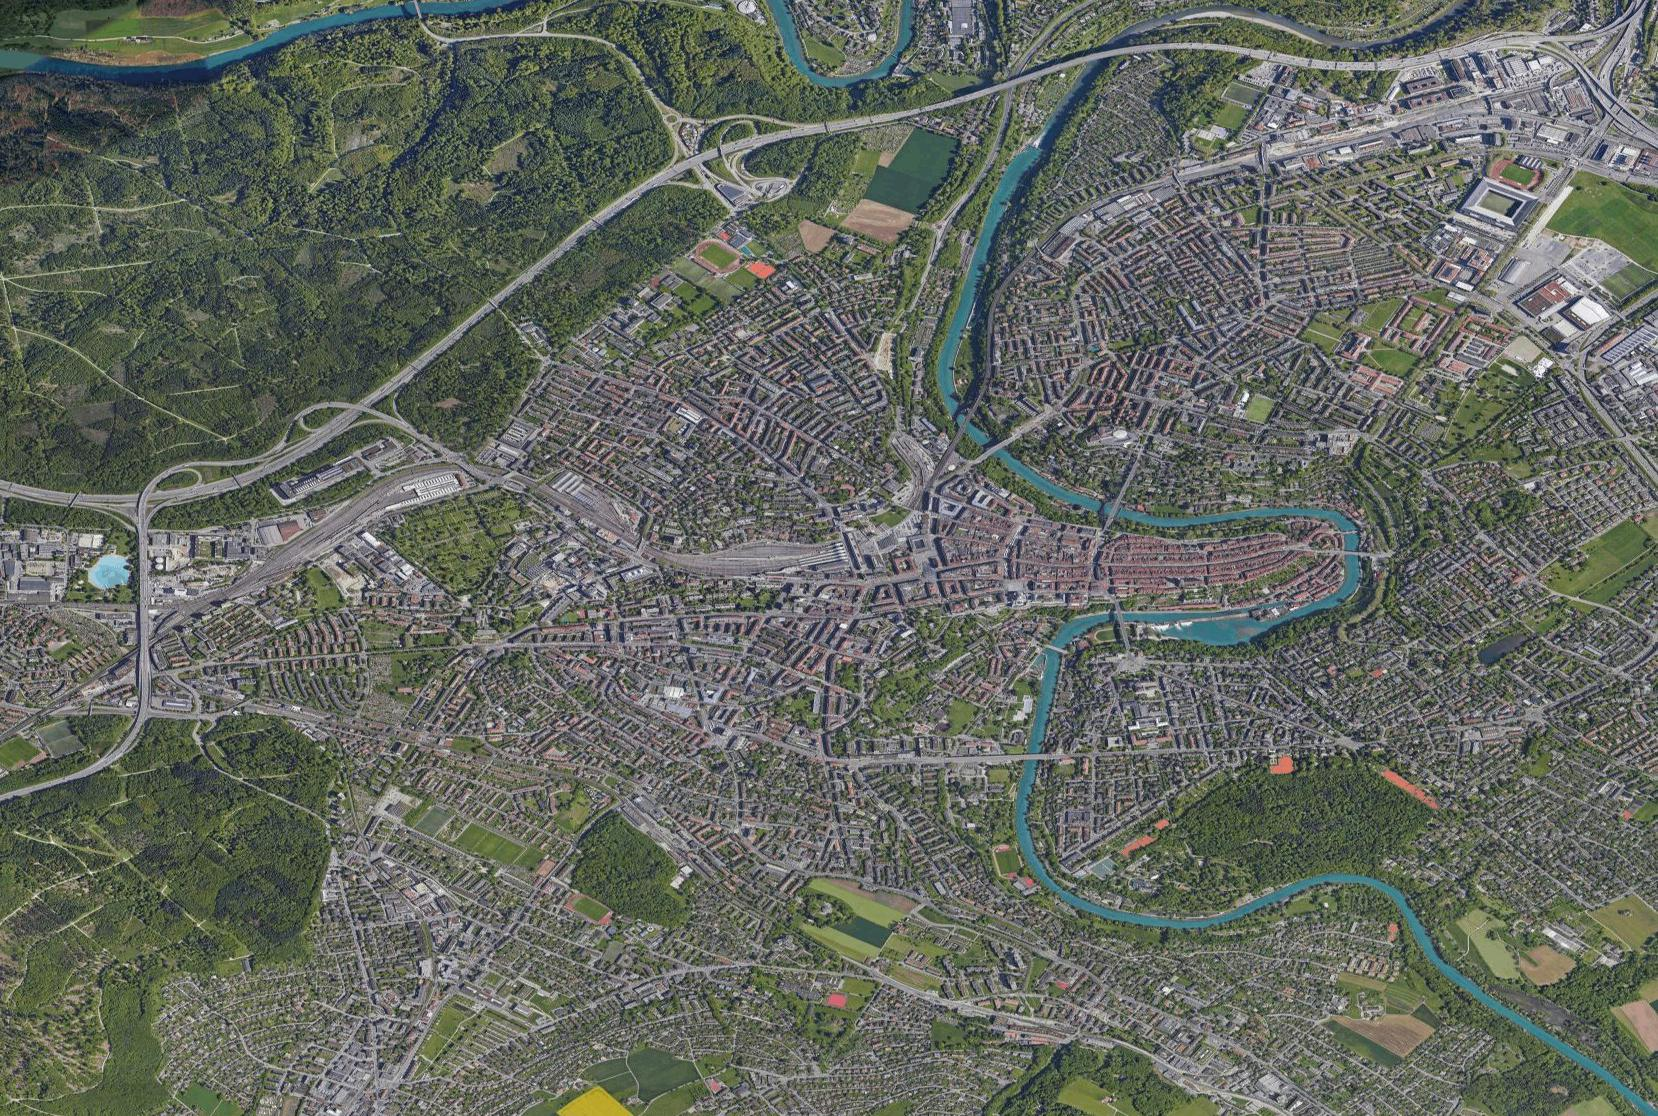bridge: (1107, 602, 1132, 648), (950, 406, 980, 438), (984, 433, 1010, 470), (1097, 497, 1126, 524), (1011, 750, 1051, 768), (1091, 49, 1125, 69), (1041, 641, 1073, 660), (1338, 544, 1364, 562)
motorway: (295, 367, 419, 461), (608, 142, 741, 219), (1, 730, 130, 805), (149, 448, 295, 511), (416, 284, 513, 376), (514, 210, 609, 295), (740, 106, 919, 149), (921, 64, 1035, 120), (1036, 40, 1193, 78), (1, 477, 140, 516), (128, 612, 154, 747), (1441, 31, 1548, 64), (1195, 41, 1318, 69), (140, 476, 154, 612), (1319, 57, 1442, 72)
train_station: (774, 527, 867, 579)
